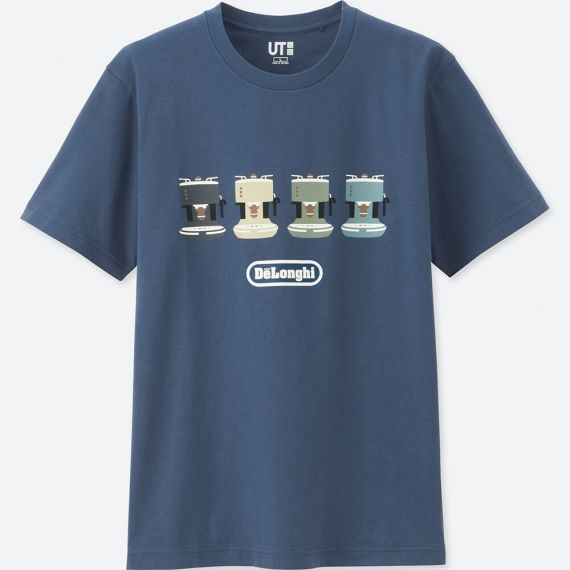T-Shirt: (19, 2, 556, 570)
